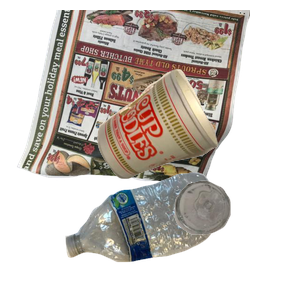glass: (172, 178, 300, 300)
paper: (14, 10, 254, 190)
plastic: (63, 170, 278, 300)
trash: (95, 67, 300, 238)
